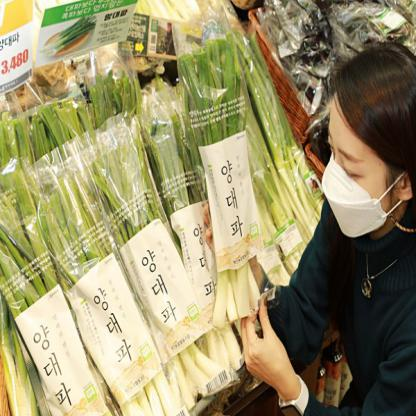green onion: (91, 121, 226, 410), (36, 161, 188, 415), (176, 37, 264, 329), (238, 30, 330, 267), (0, 163, 67, 415)
